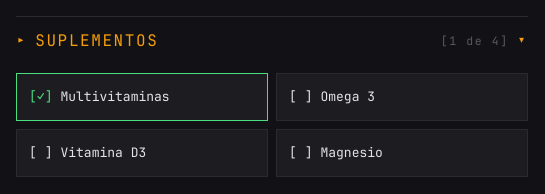
Test: el recuento se mueve con la casilla
The width and height of the screenshot is (545, 194).
Step 1. Click the button with aria-label "Omega 3, sin tomar" → (402, 97), box [276,73,528,121]
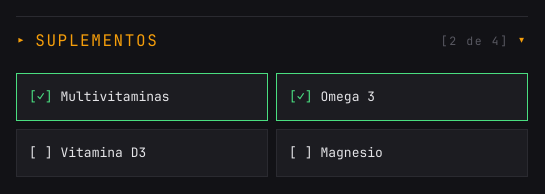
Check: the text "2 de 4" is shown, box [449,33,500,48]
